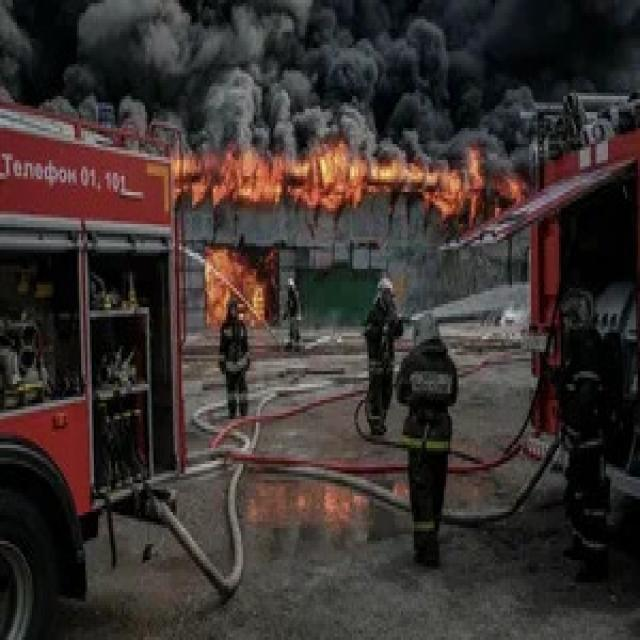Fire: (174, 142, 526, 225), (205, 248, 268, 324)
Smoke: (0, 0, 640, 168)
